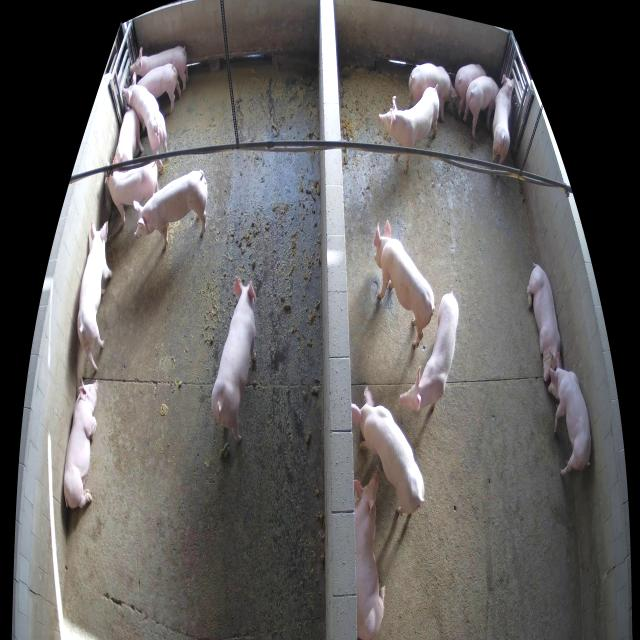pig: (351, 385, 425, 515), (374, 219, 434, 348), (212, 277, 257, 444), (400, 284, 458, 411), (133, 169, 208, 248), (378, 84, 440, 173), (354, 473, 386, 639), (78, 220, 113, 370), (547, 362, 591, 476), (122, 72, 168, 170), (64, 377, 98, 508), (527, 265, 560, 381), (105, 161, 159, 223), (408, 63, 459, 122), (130, 45, 188, 90), (135, 62, 181, 113), (464, 76, 498, 139), (492, 74, 515, 165), (115, 108, 144, 173), (455, 64, 486, 117)
